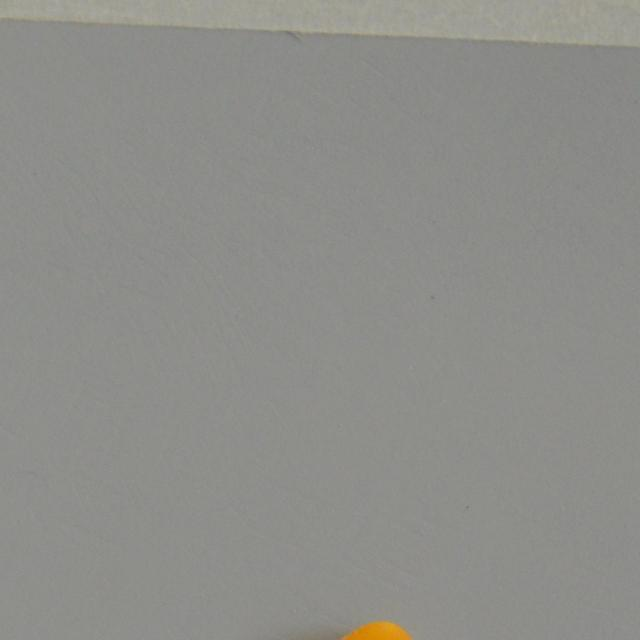dañado: (314, 618, 436, 640)
